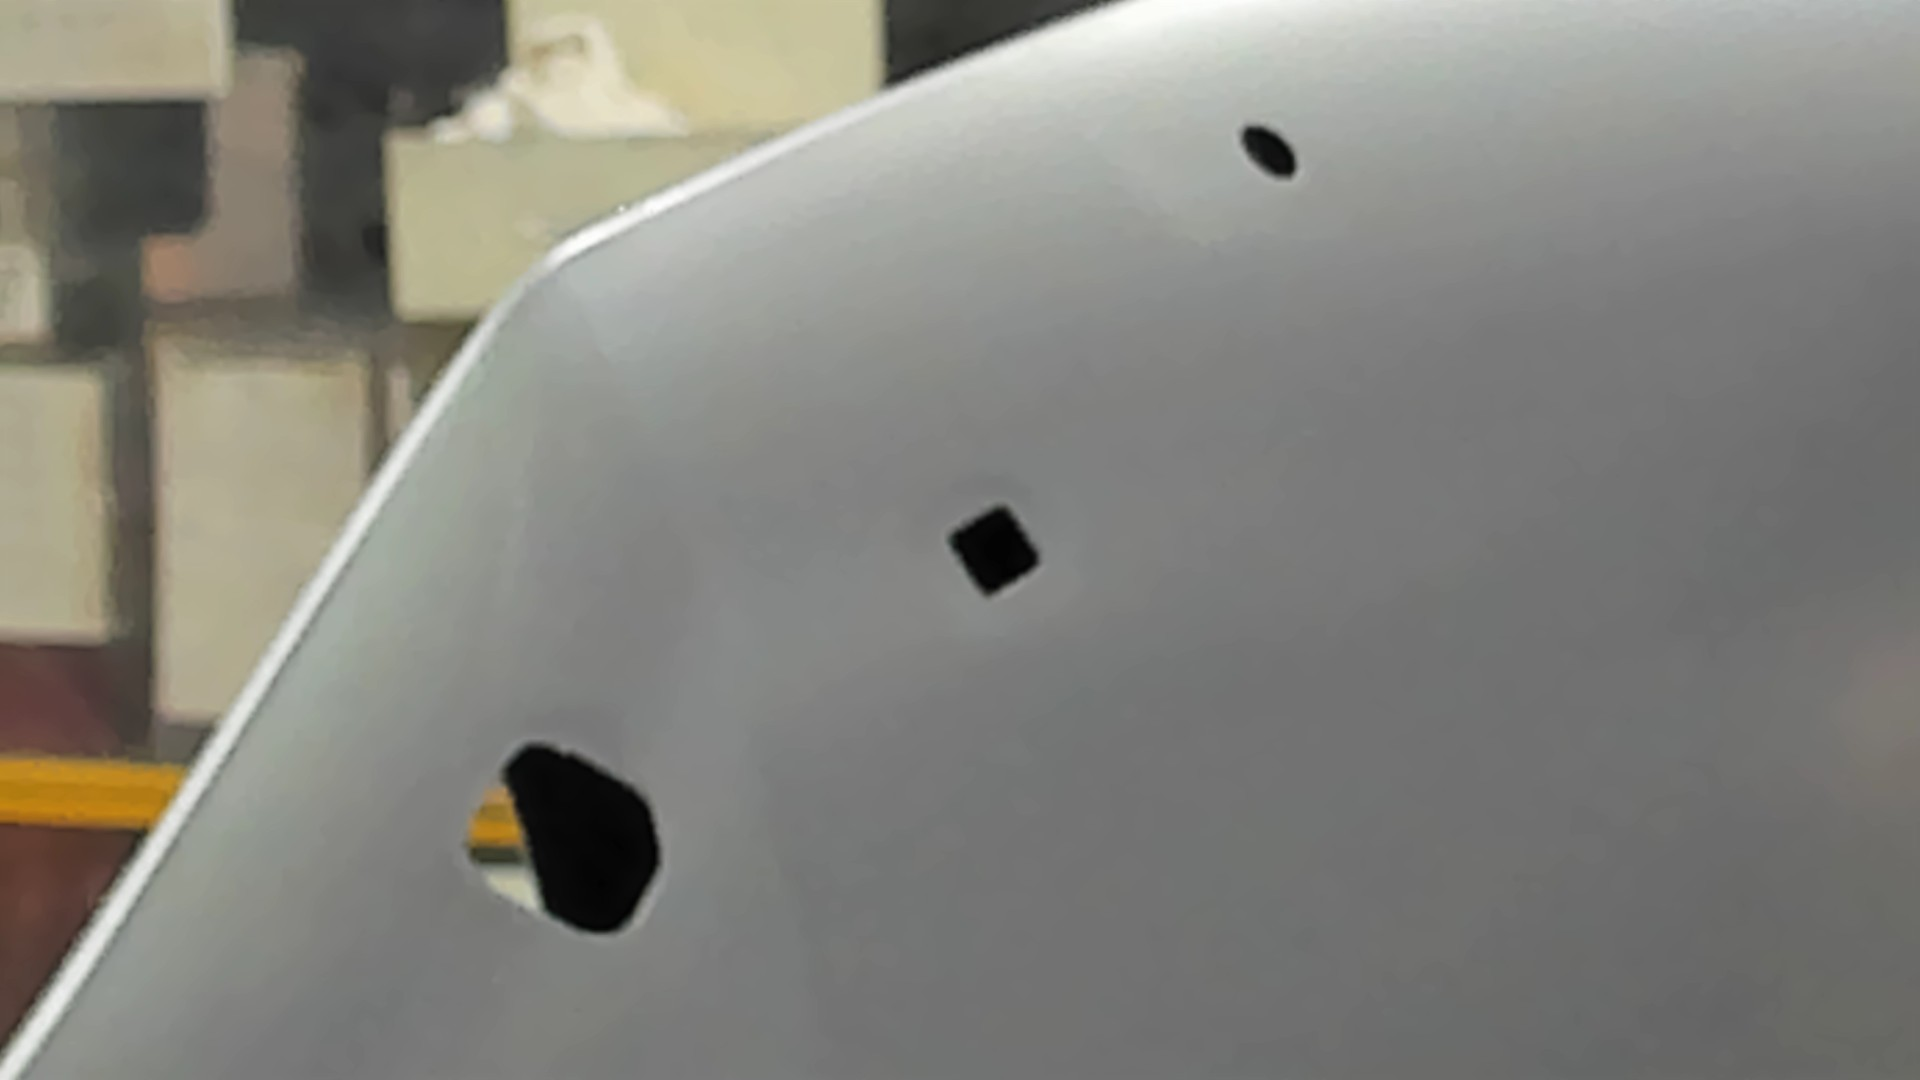chico: (1236, 117, 1302, 183)
grande: (458, 737, 669, 945)
mediano: (944, 501, 1044, 599)
